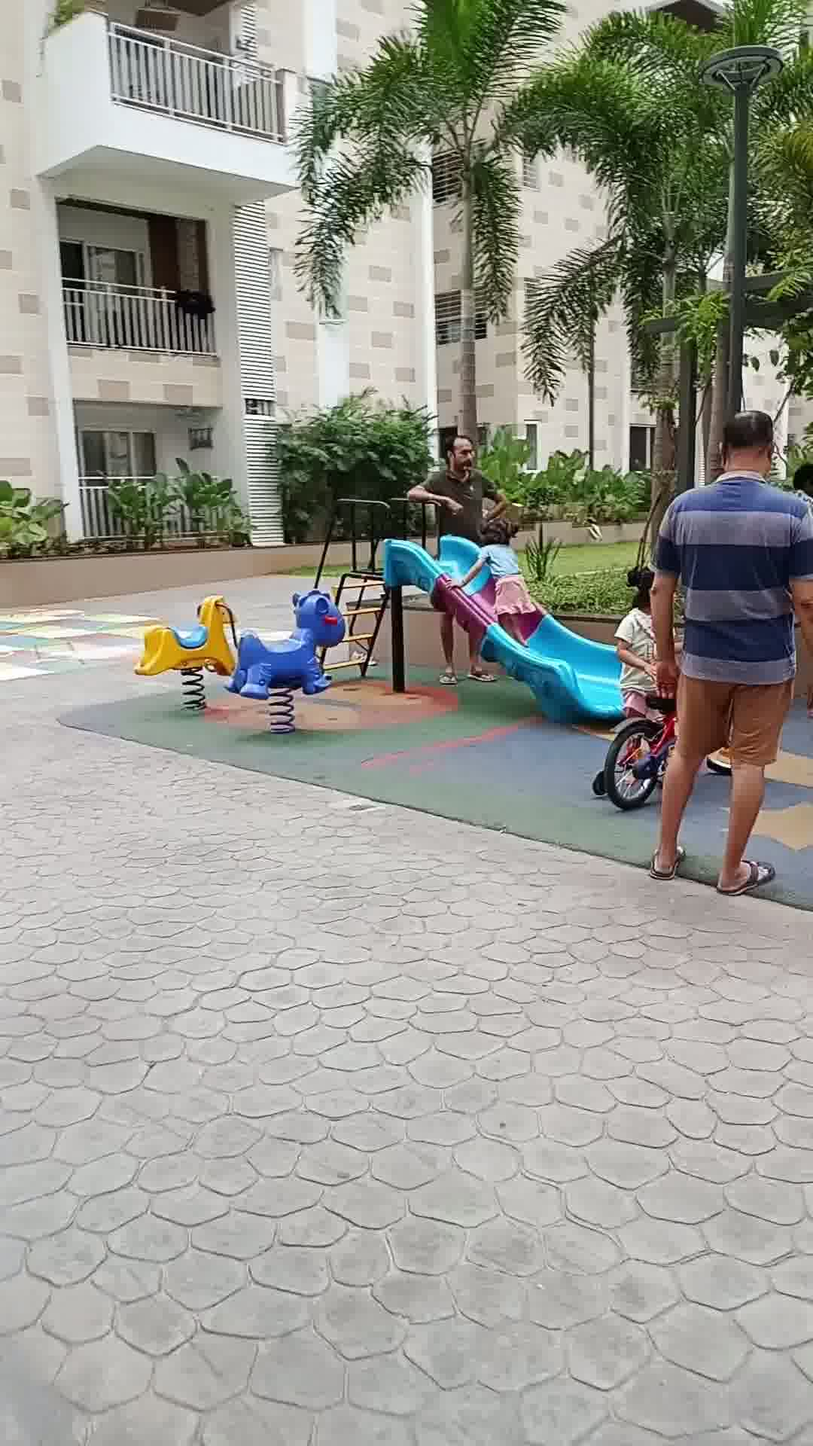bicycle: (578, 677, 754, 817)
person: (646, 381, 788, 942), (415, 387, 515, 689), (464, 507, 560, 660)
tree: (282, 0, 538, 490), (509, 9, 743, 478)
